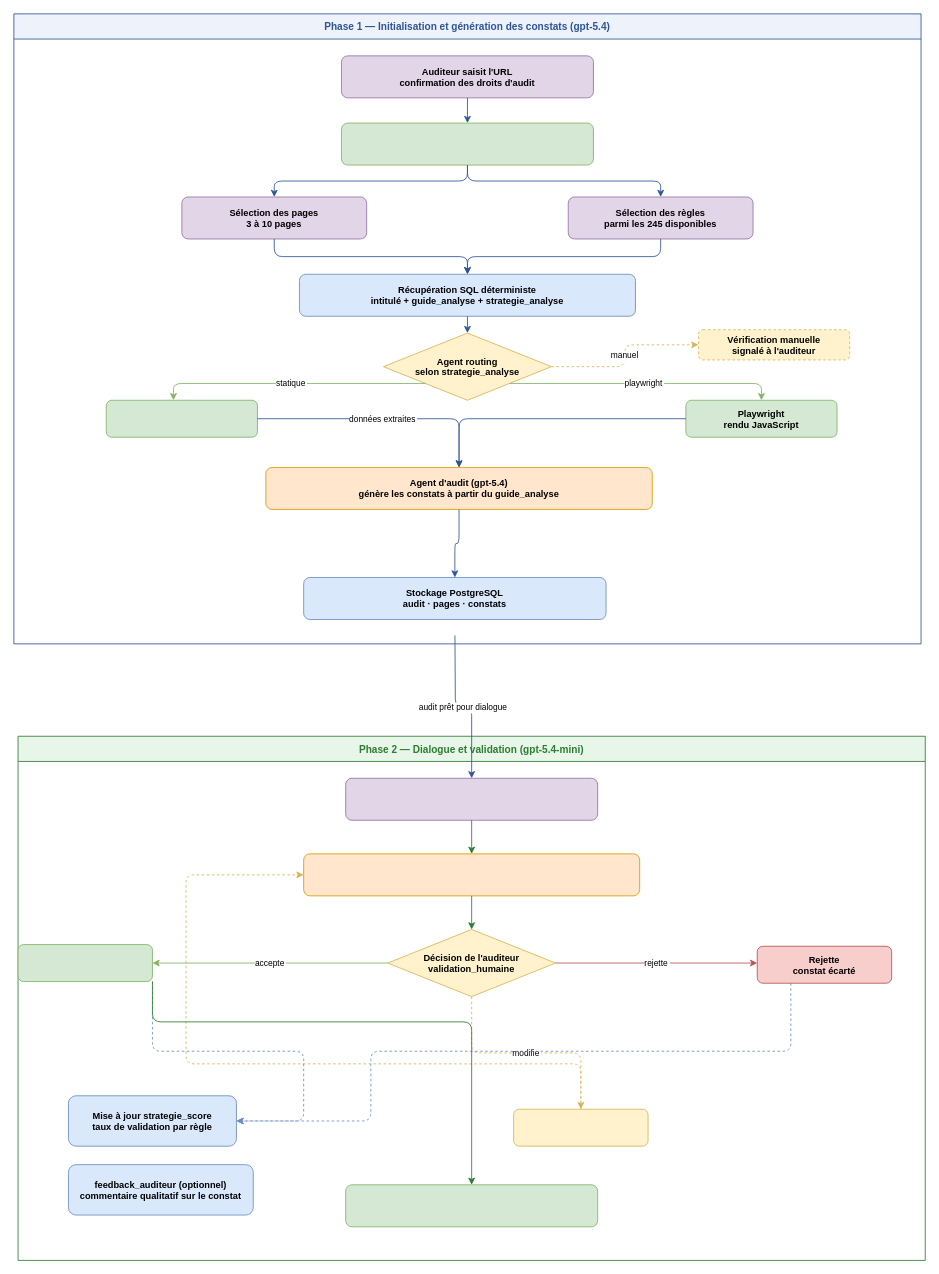
This 939x1274 diagram has some shape labels left out. Each missing label, with the centre of its shape:
Accepte constat validé: the point at 84,963
Auditeur consulte les constats proposés par l'agent: the point at 471,798
Crawl léger premier niveau détection des pages du site: the point at 467,143
Dialogue avec l'agent (gpt-5.4-mini) injection SQL du contexte exact de la règle: the point at 471,874
Génération du rapport final constats validés + recommandations: the point at 471,1205
Modifie reformulation: the point at 580,1127
Parsing statique BeautifulSoup: the point at 181,418
